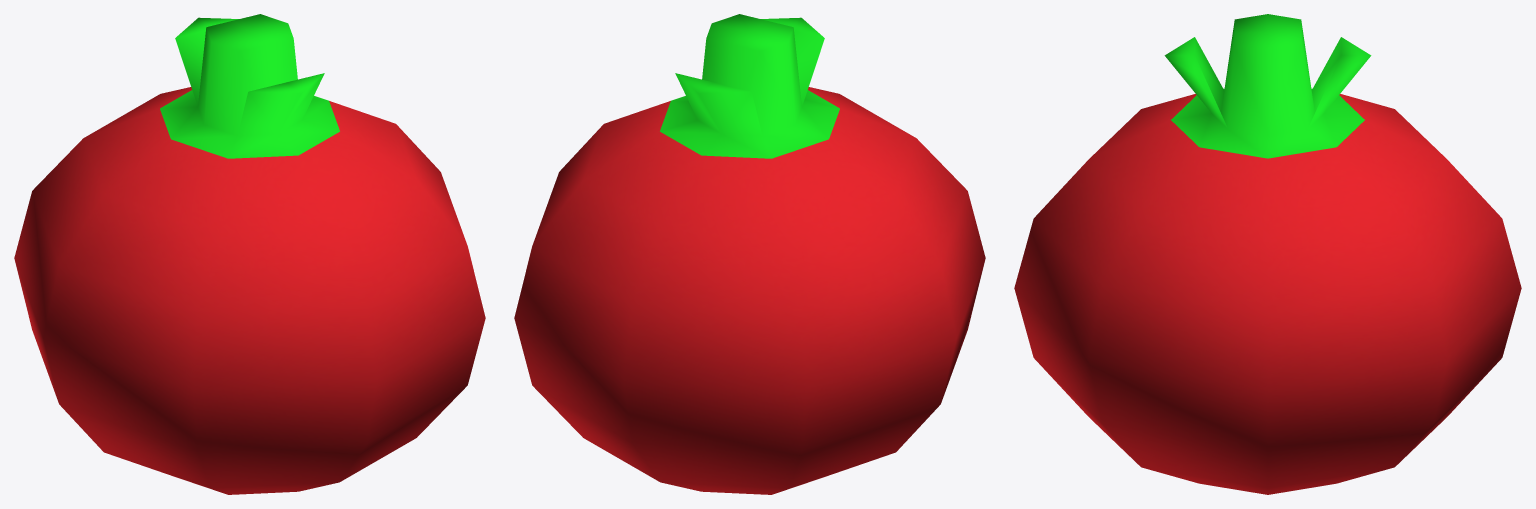
Rendered from Tomato.fbx.
The picture shows the model from 3 angles, left to right: view 1: azimuth 30°, elevation 25°; view 2: azimuth 150°, elevation 25°; view 3: azimuth 270°, elevation 25°; orthographic projection.
Visible parts, largest first — view 1: polySurface2; view 2: polySurface2; view 3: polySurface2.
Boxes of the visible parts, x1=… form: polySurface2: x1=14, y1=14, x2=485, y2=494; polySurface2: x1=514, y1=14, x2=985, y2=494; polySurface2: x1=1014, y1=14, x2=1521, y2=494.
Bounding box in the file's own units: 1.66 × 1.68 × 1.77.
